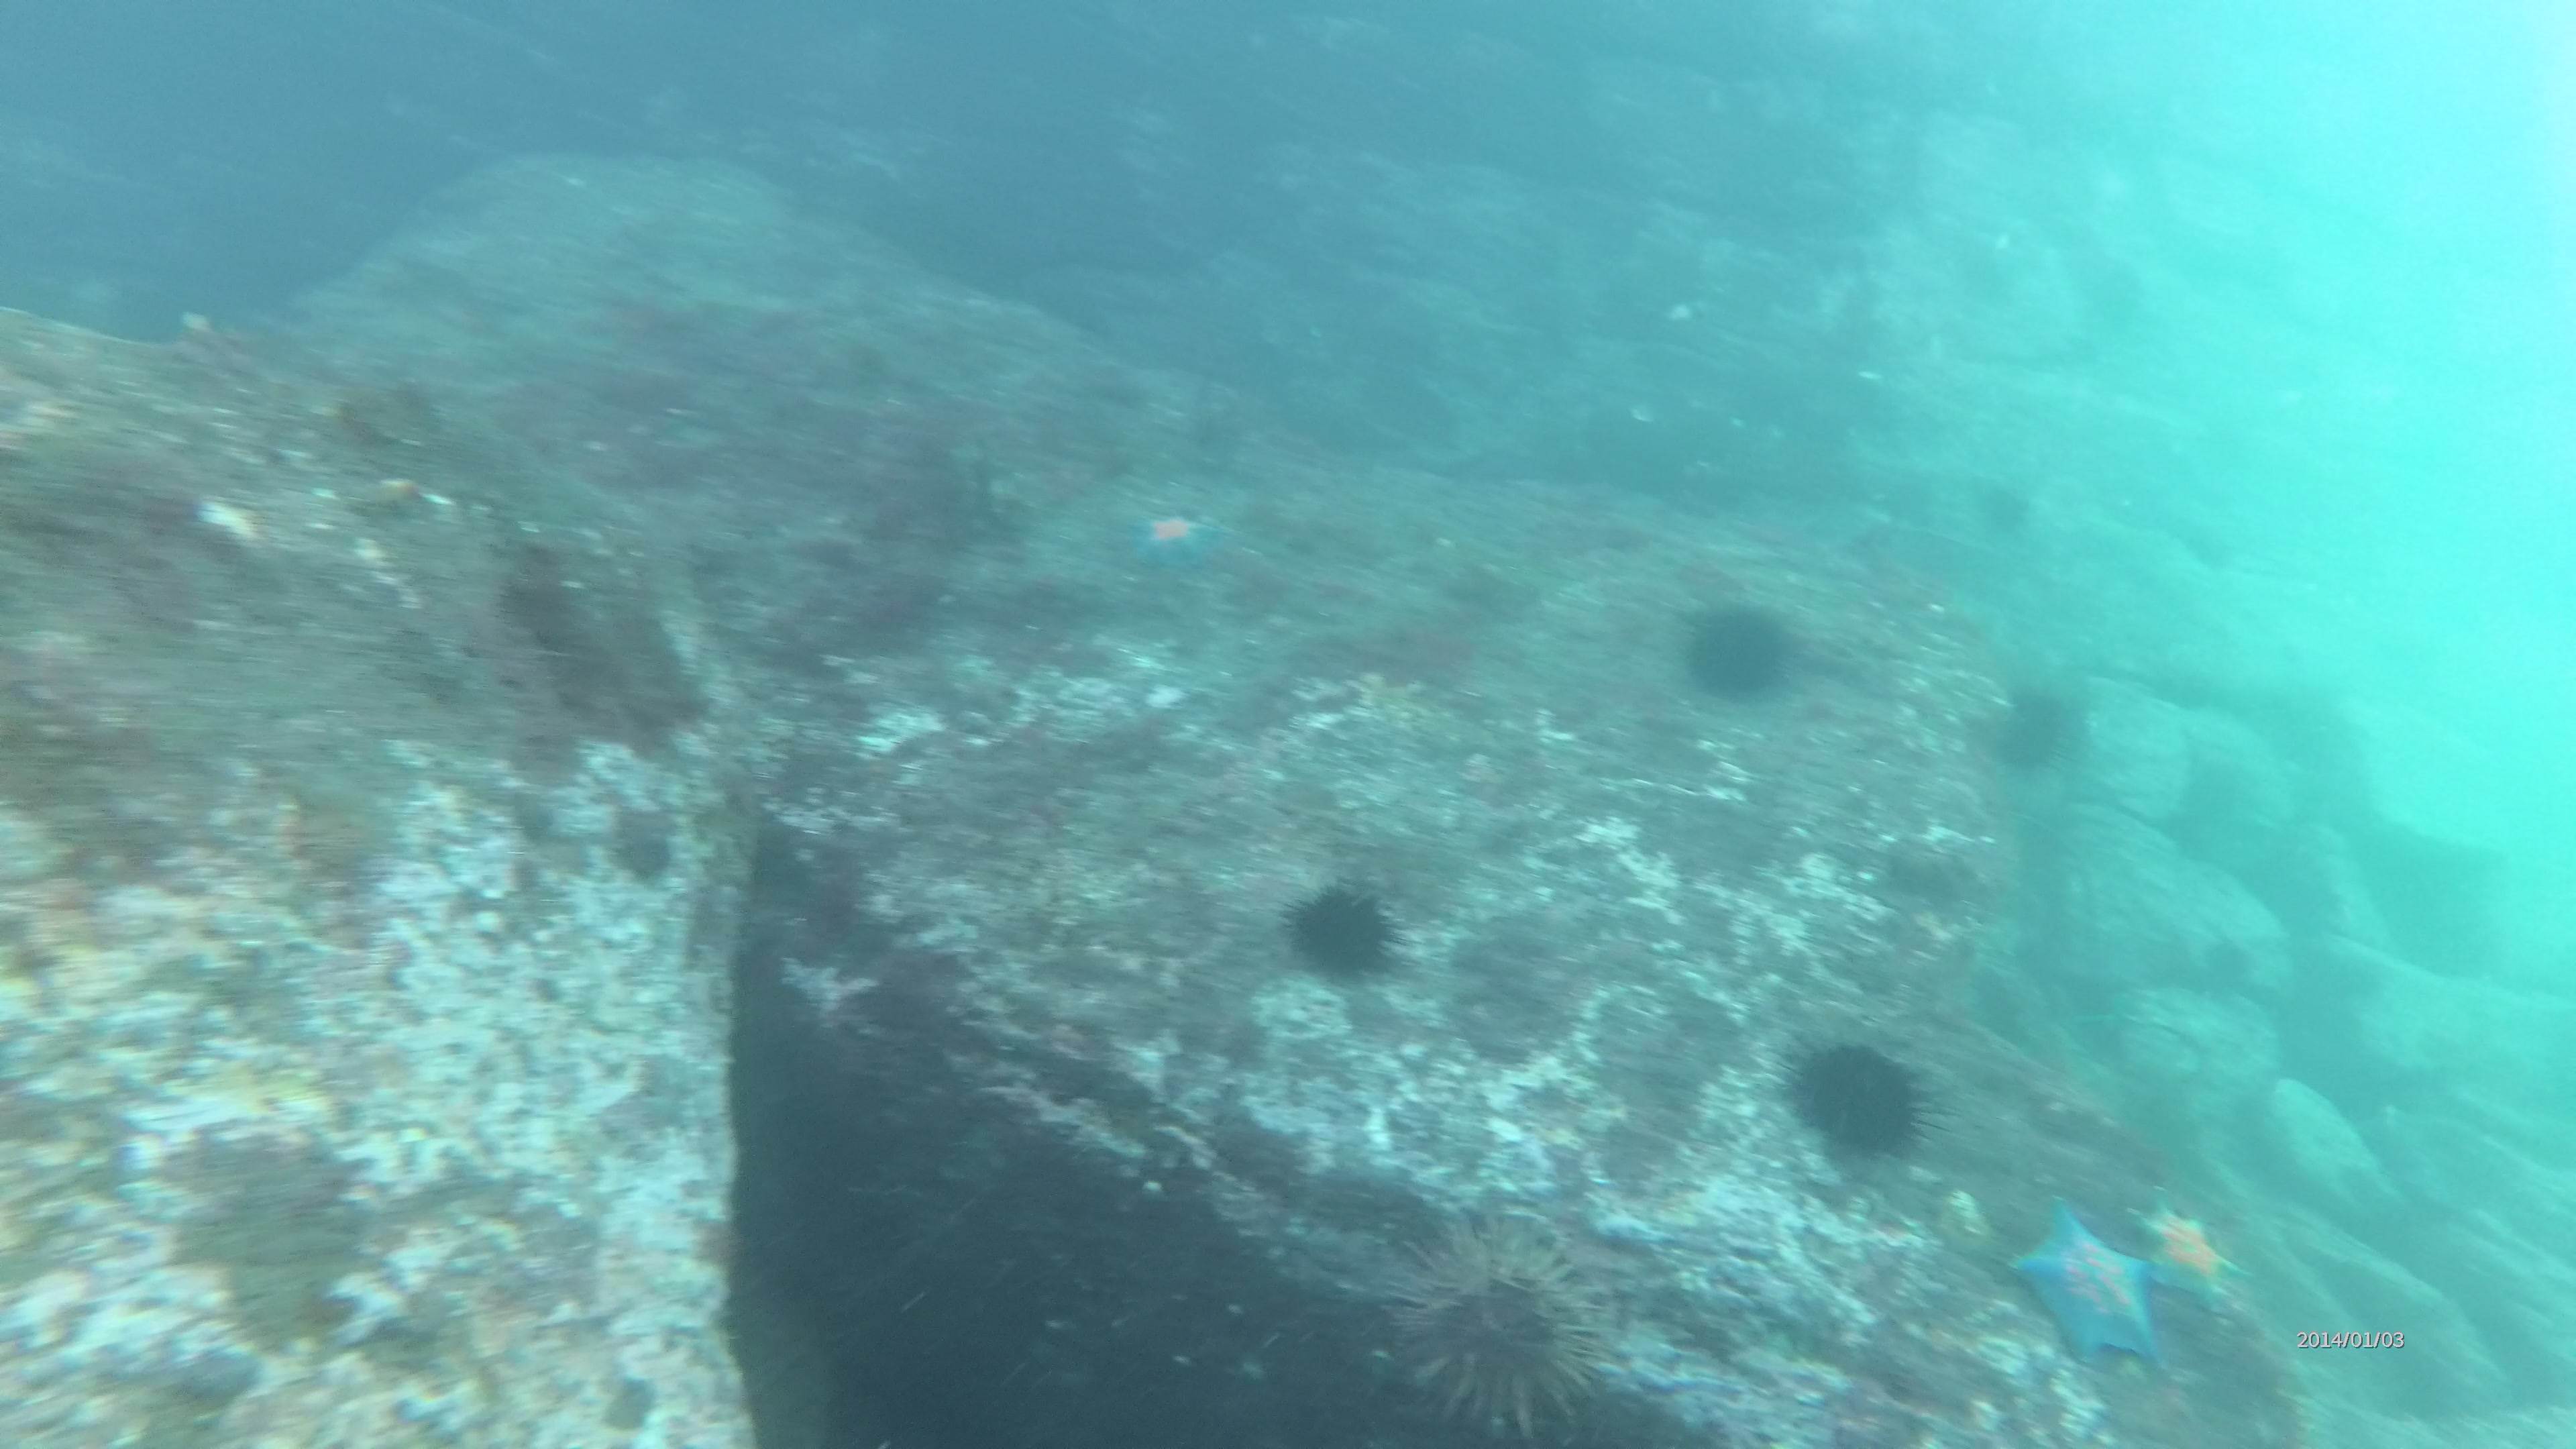echinus: (1375, 1221, 1617, 1444), (1773, 1030, 1946, 1171), (1274, 869, 1408, 1003), (1674, 584, 1799, 708), (1989, 671, 2086, 780), (1969, 479, 2040, 536)
starfish: (1997, 1185, 2169, 1378), (2116, 1200, 2259, 1322), (1123, 492, 1226, 589)
